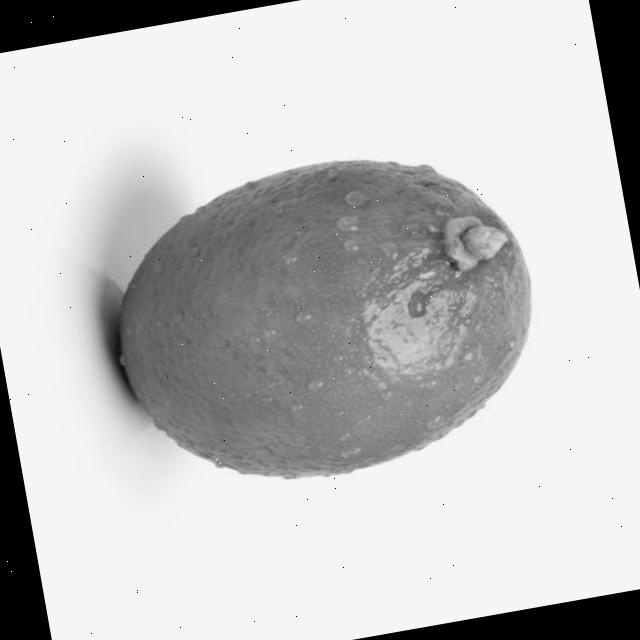Unripe: (92, 128, 561, 508)
